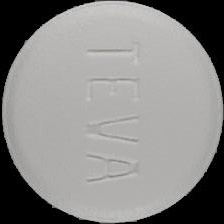68258-6047: (0, 0, 224, 224)
